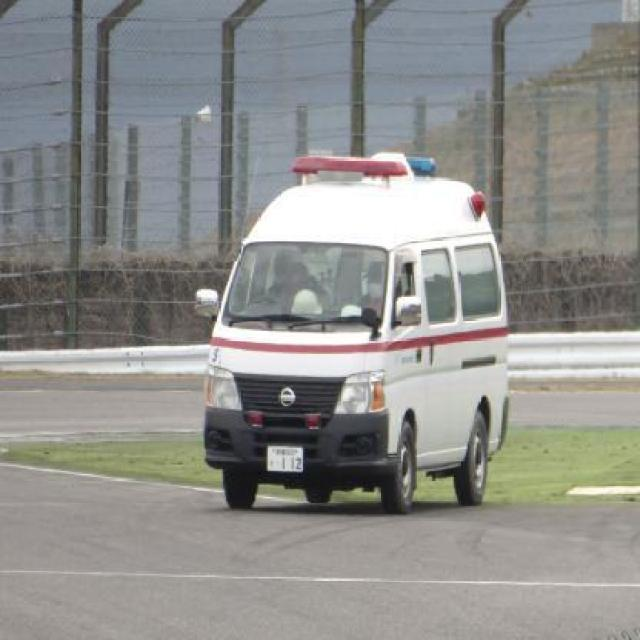emergency: (193, 149, 511, 513)
